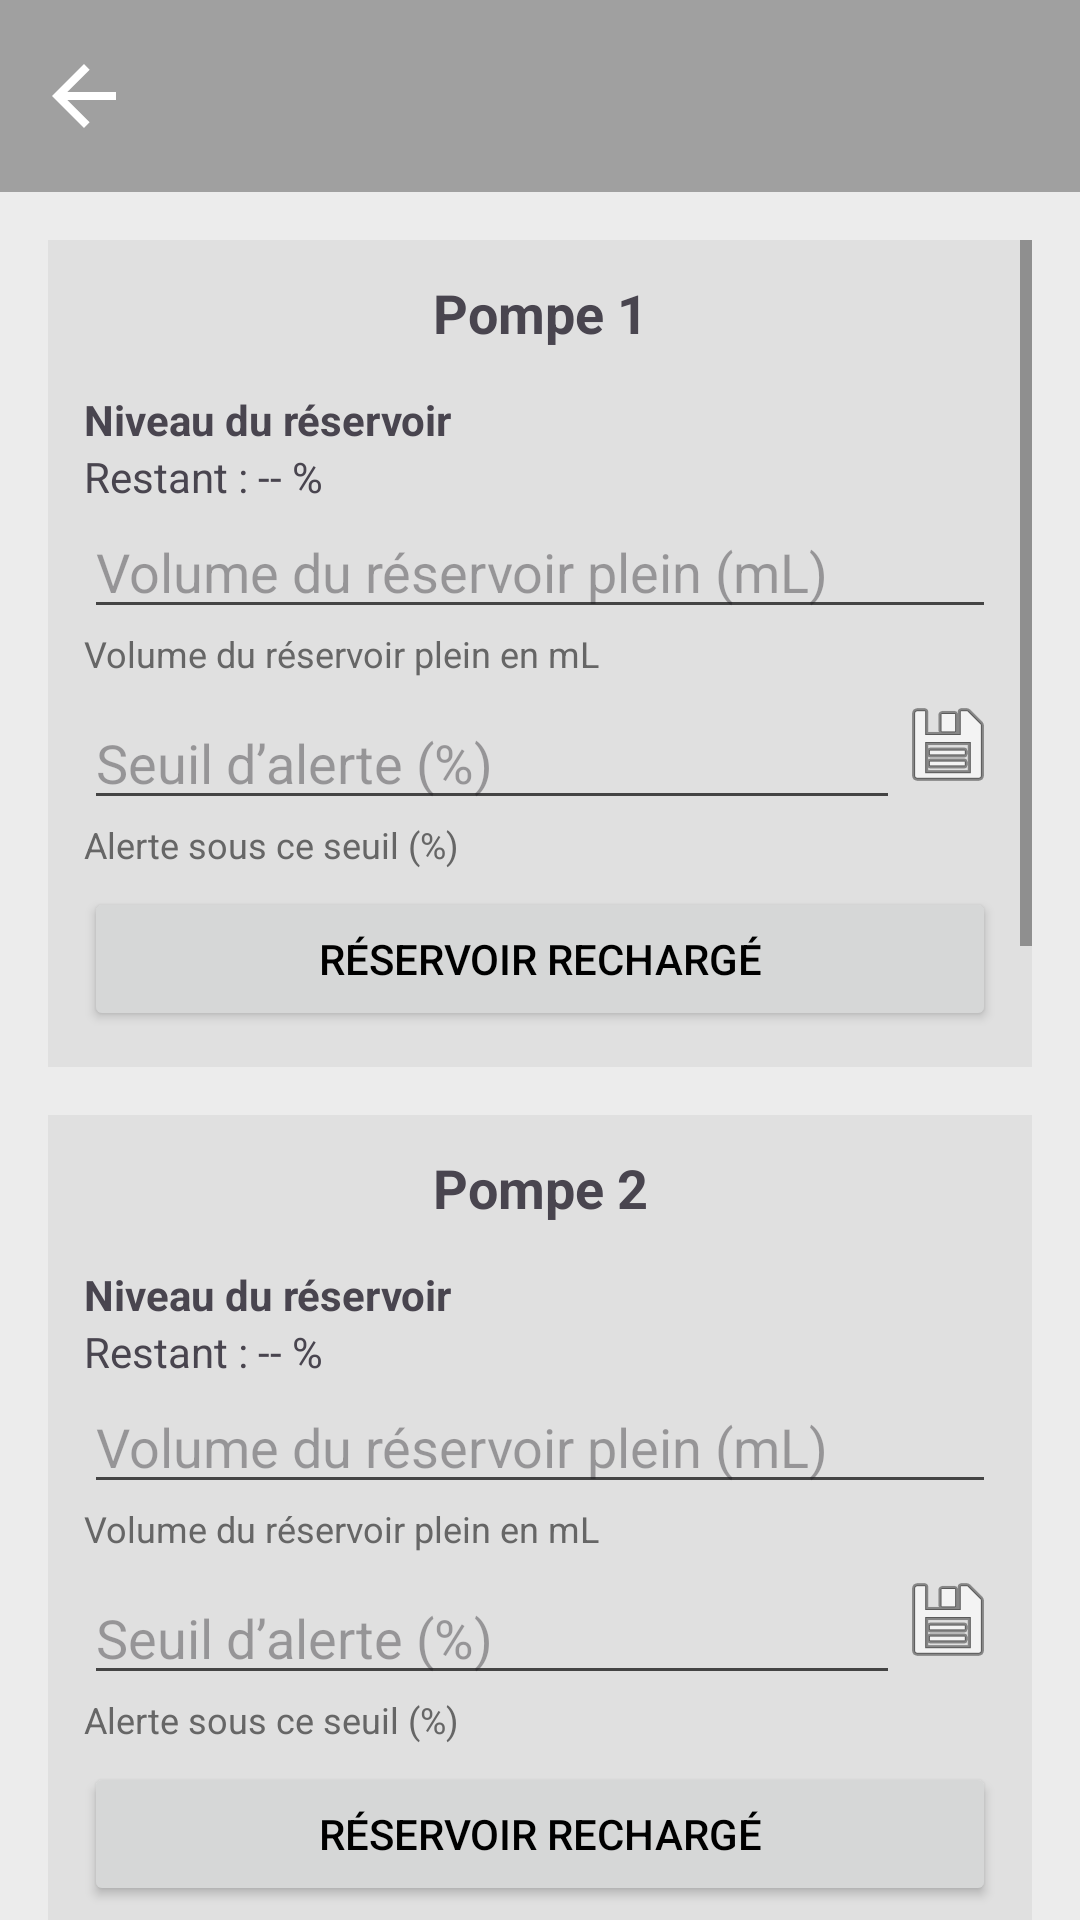

Screen size 1080px x 1920px. Icon name, then its center in pixels as (x=x, y=y):
Valider le seuil: (x=948, y=744), (x=948, y=1619)
